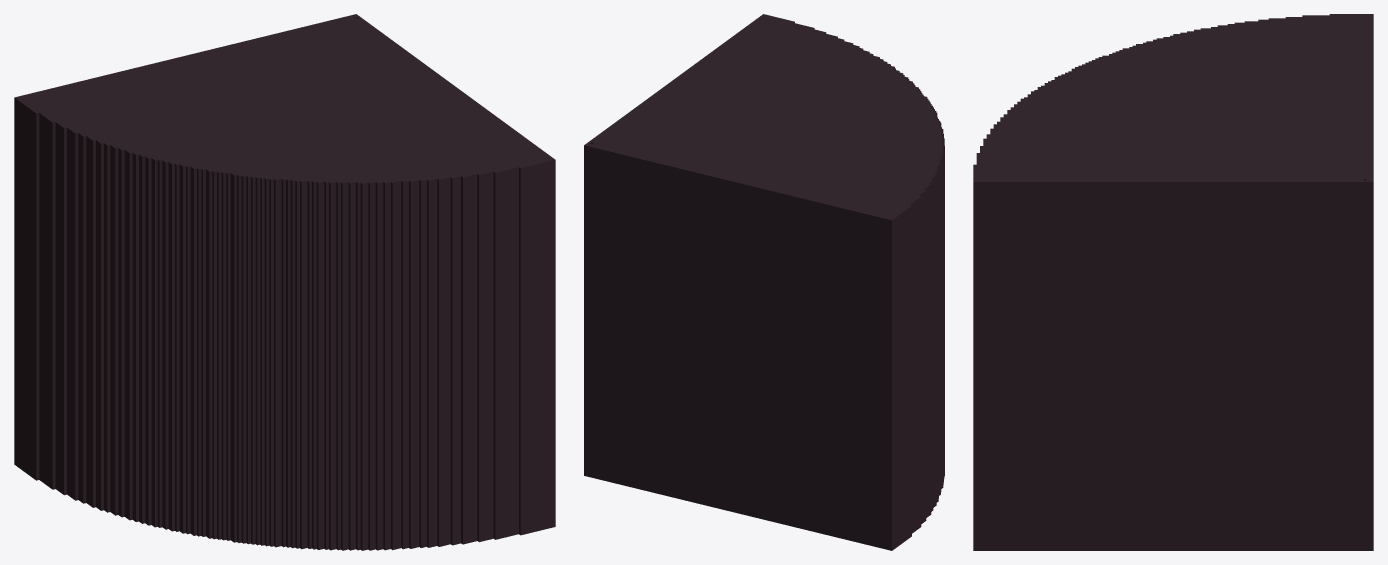
File: top.obj
3 views of the same model, side by side, from view 1: azimuth 30°, elevation 25°; view 2: azimuth 150°, elevation 25°; view 3: azimuth 270°, elevation 25° (orthographic). The views are drawn at different scales.
Parts seen in each view (by area): view 1: top; view 2: top; view 3: top.
Part boxes in pixels (<box>): top: <box>14,14,555,550</box>; top: <box>584,14,944,550</box>; top: <box>973,14,1373,550</box>.
Bounding box in the file's own units: 117 × 120 × 118.
1 material, 1 textured.
